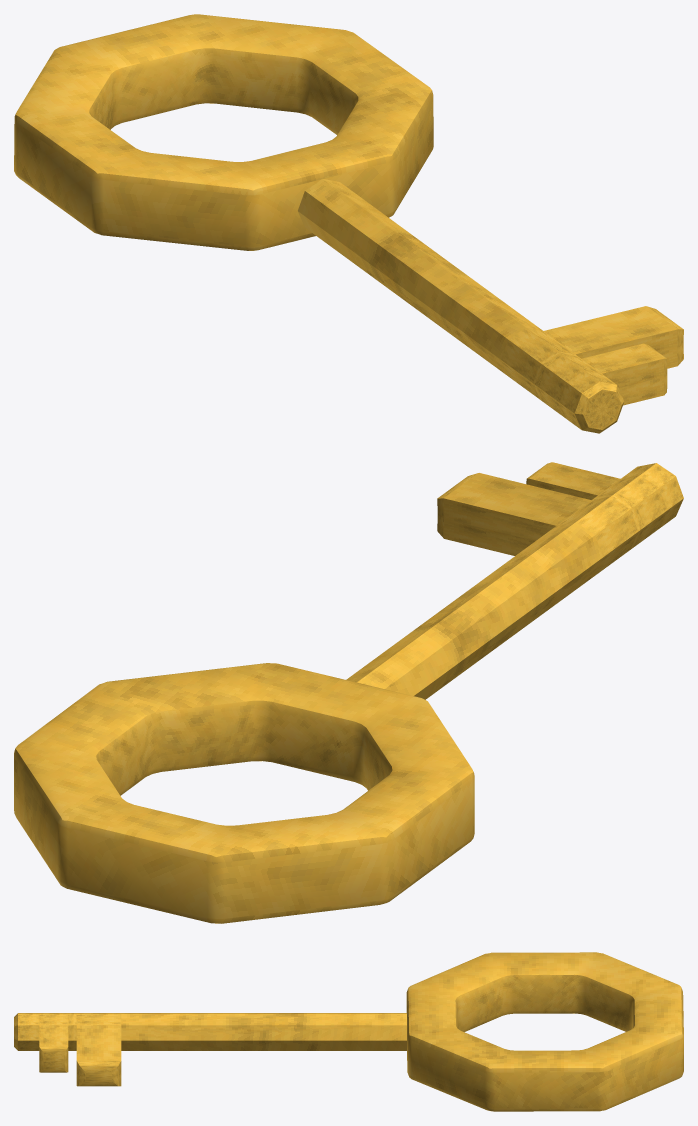
File: key.gltf
3 renders of one model, top to bottom at view 1: azimuth 30°, elevation 25°; view 2: azimuth 150°, elevation 25°; view 3: azimuth 270°, elevation 25°, orthographic. The views are drawn at different scales.
Parts seen in each view (by area): view 1: key-col; view 2: key-col; view 3: key-col.
Boxes of the visible parts, x1,y1,x2,y2 form: key-col: (14,14,683,433); key-col: (14,462,683,923); key-col: (14,952,683,1111).
Bounding box in the file's own units: 0.631 × 0.1161 × 1.52.
Materials: 1 (1 with a texture image).
